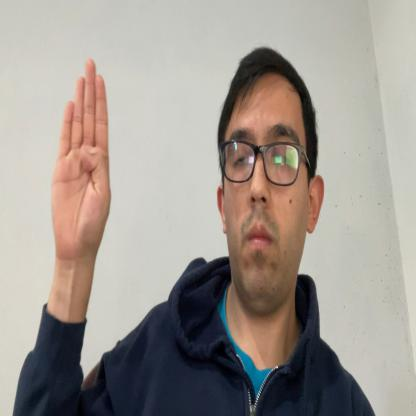B: (50, 58, 111, 266)
